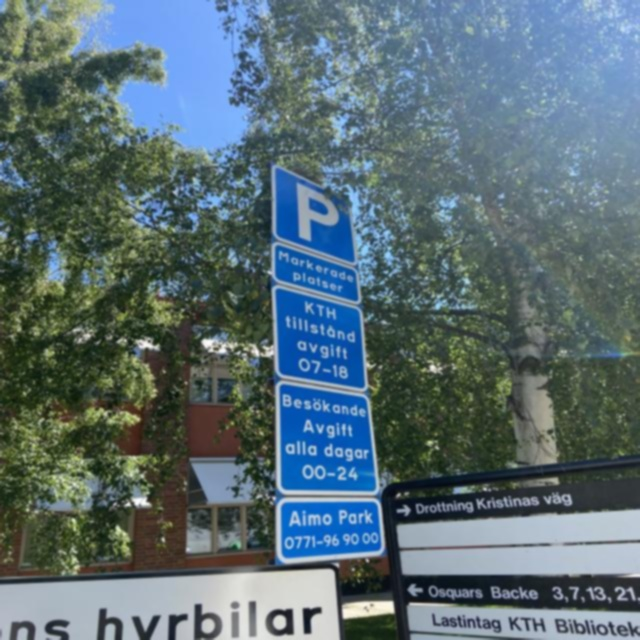P-skylt: (270, 163, 358, 264)
